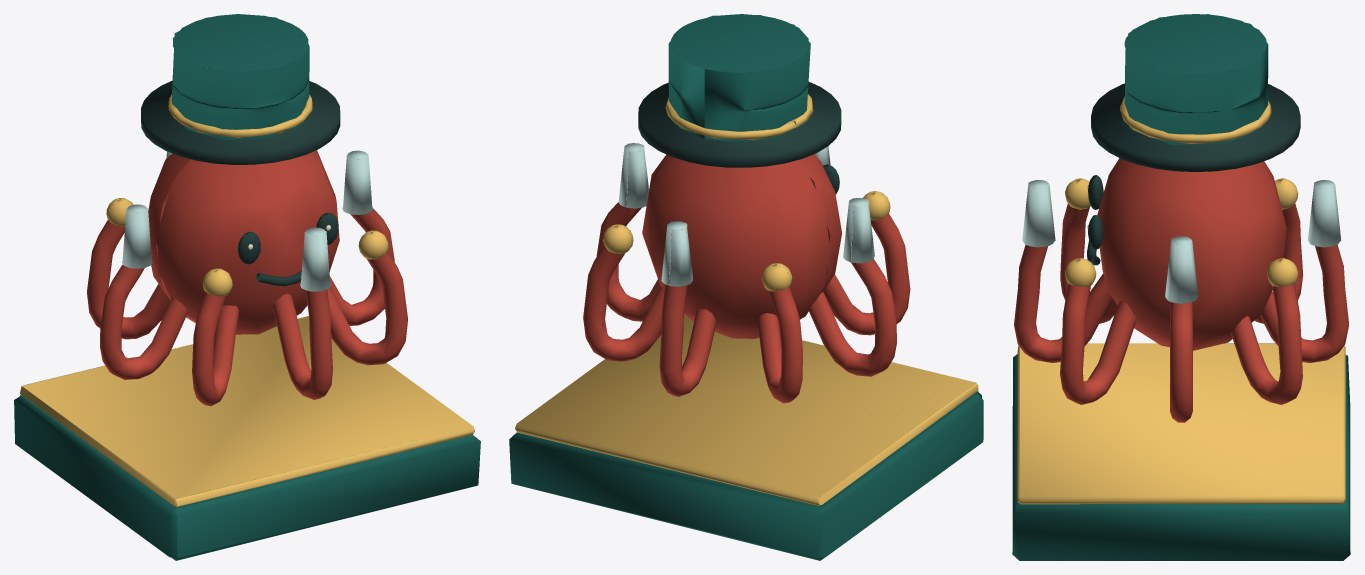
The picture shows the model from 3 angles, left to right: view 1: azimuth 30°, elevation 25°; view 2: azimuth 150°, elevation 25°; view 3: azimuth 270°, elevation 25°; orthographic projection. The views are drawn at different scales.
Parts seen in each view (by area): view 1: Brass welt, Jade footing, Octopus conductor, Bright eye, Cocktail arm.004, Cocktail arm.006, Cocktail arm.005, Cocktail arm.007, Cocktail arm.003, Cocktail arm, Cocktail shaker.002, Cocktail shaker.003 (+3 smaller); view 2: Brass welt, Jade footing, Octopus conductor, Bright eye, Cocktail arm.004, Cocktail arm.002, Cocktail arm.001, Cocktail arm.003, Cocktail arm.005, Cocktail arm, Cocktail shaker.001, Cocktail shaker.002 (+3 smaller); view 3: Brass welt, Jade footing, Octopus conductor, Bright eye, Cocktail arm.007, Cocktail arm.001, Cocktail arm.006, Cocktail arm.002, Cocktail arm, Cocktail shaker, Cocktail shaker.003, Cocktail shaker.001 (+6 smaller).
Part boxes in pixels (x1,y1,x2,y2): Brass welt: [20, 94, 474, 507]; Jade footing: [14, 14, 480, 560]; Octopus conductor: [148, 150, 339, 334]; Bright eye: [141, 80, 340, 286]; Cocktail arm.004: [100, 265, 188, 379]; Cocktail arm.006: [272, 289, 332, 399]; Cocktail arm.005: [192, 292, 239, 406]; Cocktail arm.007: [327, 251, 407, 365]; Cocktail arm.003: [87, 220, 170, 339]; Cocktail arm: [329, 208, 394, 325]; Cocktail shaker.002: [122, 204, 152, 268]; Cocktail shaker.003: [300, 227, 330, 291]; Brass welt: [515, 94, 978, 506]; Jade footing: [509, 14, 983, 560]; Octopus conductor: [642, 154, 841, 338]; Bright eye: [638, 82, 841, 194]; Cocktail arm.004: [809, 259, 896, 376]; Cocktail arm.002: [659, 275, 716, 396]; Cocktail arm.001: [583, 245, 664, 361]; Cocktail arm.003: [757, 287, 802, 403]; Cocktail arm.005: [823, 213, 910, 335]; Cocktail arm: [596, 193, 660, 321]; Cocktail shaker.001: [661, 221, 692, 286]; Cocktail shaker.002: [843, 198, 874, 263]; Brass welt: [1017, 96, 1345, 504]; Jade footing: [1012, 14, 1350, 560]; Octopus conductor: [1097, 158, 1286, 350]; Bright eye: [1087, 83, 1300, 265]; Cocktail arm.007: [1060, 283, 1136, 404]; Cocktail arm.001: [1231, 284, 1302, 404]; Cocktail arm.006: [1014, 245, 1112, 362]; Cocktail arm.002: [1260, 244, 1348, 362]; Cocktail arm: [1170, 301, 1192, 422]; Cocktail shaker: [1165, 236, 1198, 303]; Cocktail shaker.003: [1022, 180, 1055, 247]; Cocktail shaker.001: [1308, 180, 1341, 247].
Bounding box in the file's own units: 0.7868 × 1.02 × 0.7099.
